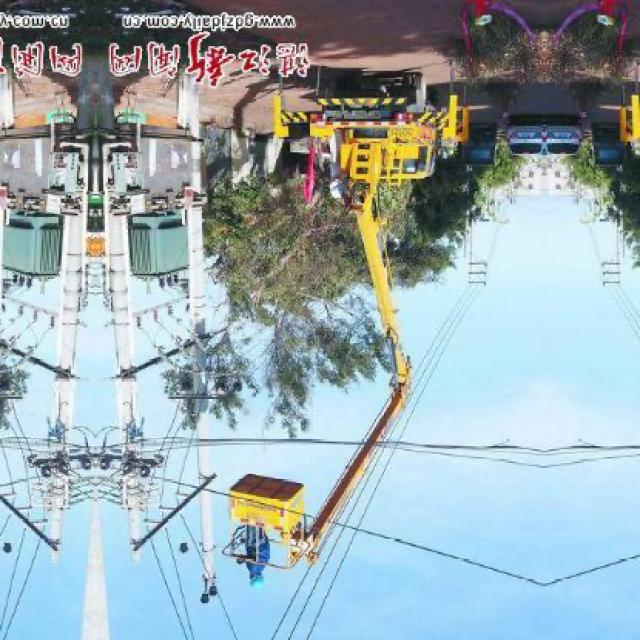con casco: (234, 564, 279, 618)
